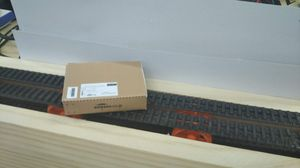box2: (59, 60, 148, 116)
